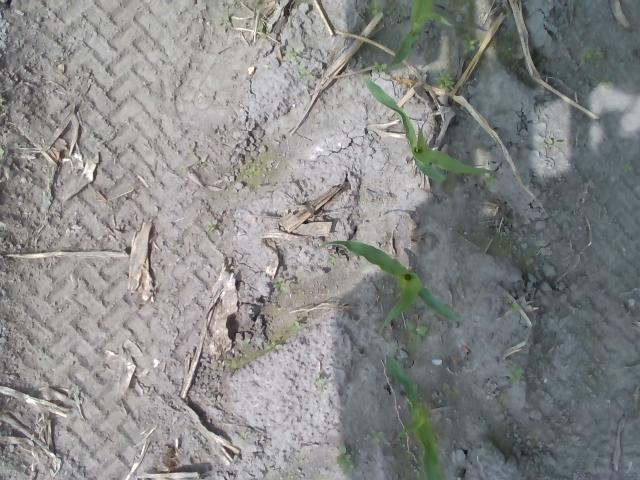Maize: (314, 236, 462, 333), (366, 77, 500, 184), (382, 354, 443, 480), (393, 2, 452, 66)
Weeds: (403, 318, 428, 344), (336, 444, 356, 470), (582, 46, 606, 64), (436, 72, 458, 88), (293, 64, 313, 80), (510, 361, 524, 383), (460, 38, 476, 54), (218, 14, 233, 30), (372, 60, 387, 76), (367, 430, 384, 444), (597, 77, 615, 90), (286, 48, 302, 62), (368, 0, 382, 15), (287, 318, 302, 332), (502, 303, 519, 315), (272, 281, 290, 292), (445, 386, 459, 400), (264, 342, 282, 352), (204, 219, 218, 231), (326, 255, 340, 266), (496, 394, 508, 406), (314, 374, 326, 385), (206, 392, 217, 402), (544, 138, 555, 147), (286, 472, 294, 480)
